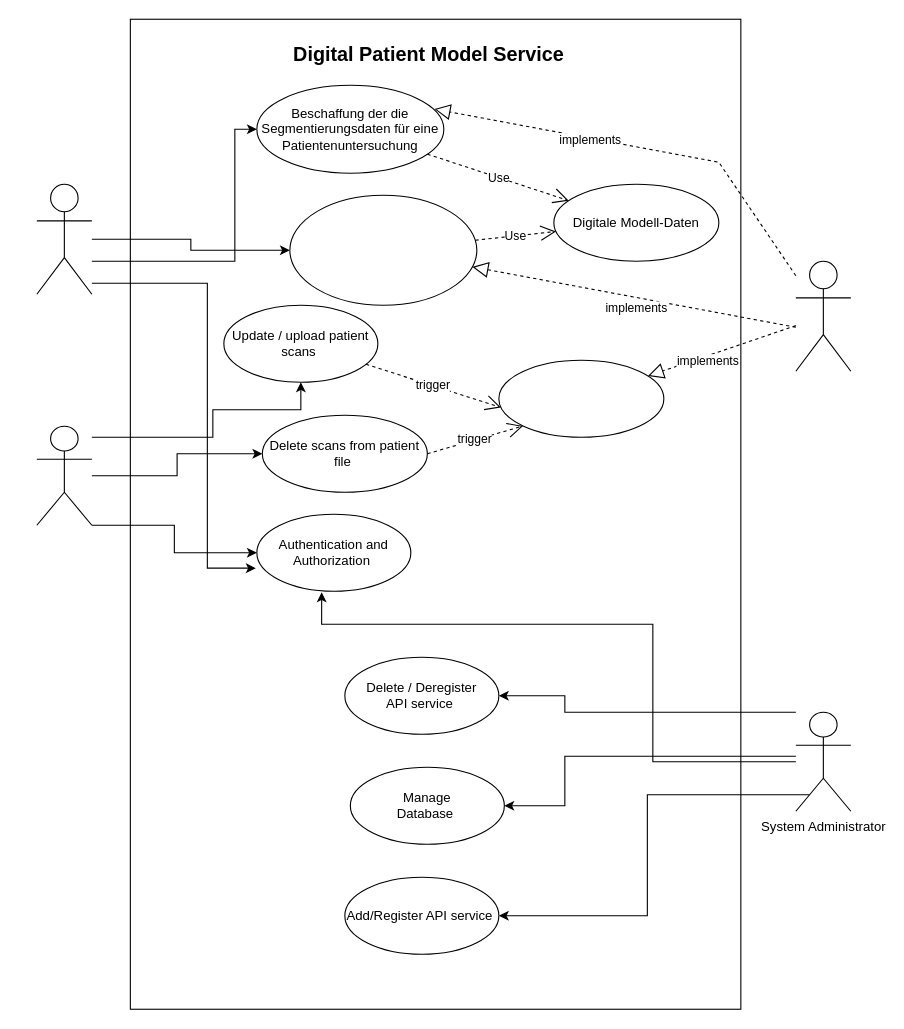
Some shapes in this 904 by 1029 pixel diagram are drawn without their labels. The shapes that lost their labels are listed below. From the top down, each one's centre as x and y in pixels, then its label:
the point at 64,238: Doctor
the point at 383,249: Beschaffung der strukturelle Informationen für eine Patientenuntersuchung
the point at 823,315: Service Provider
the point at 581,398: Digital Model Data Generation / Update
the point at 64,475: Lab Technician
